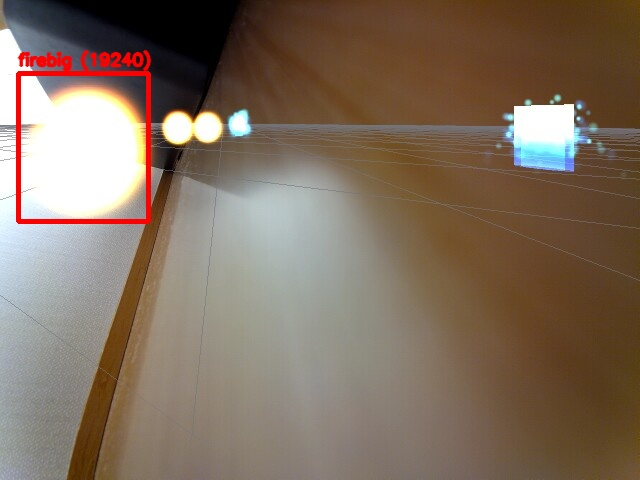firebig: (18, 73, 148, 221)
